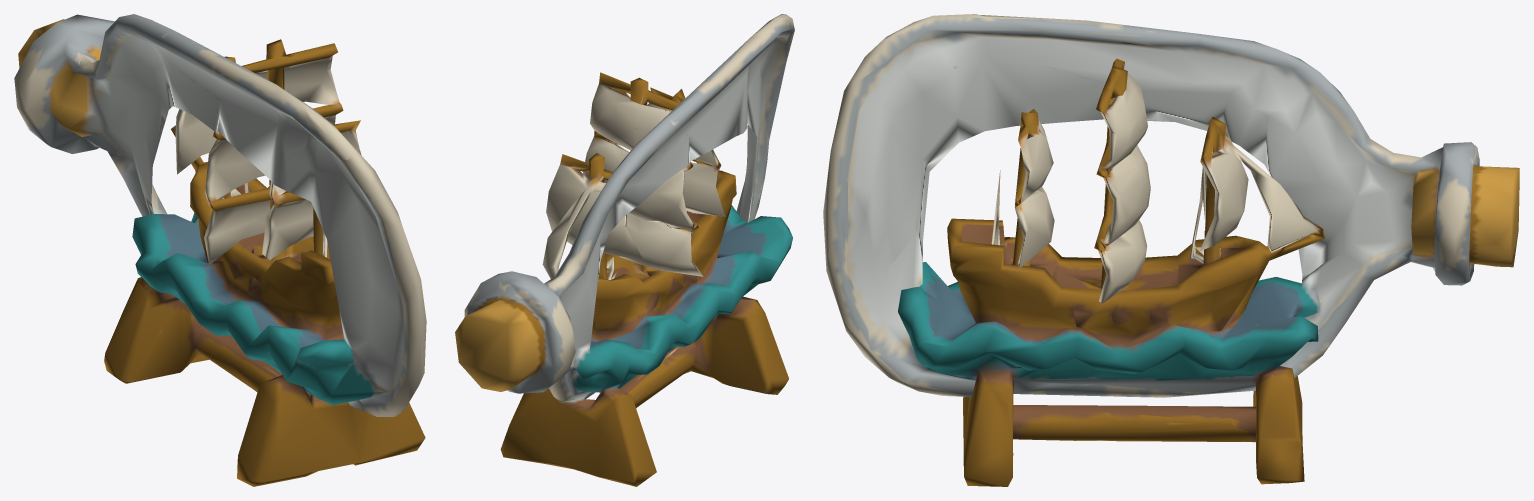
The model's file is f-shipbottle.glb.
3 views of the same model, side by side, from view 1: azimuth 30°, elevation 25°; view 2: azimuth 150°, elevation 25°; view 3: azimuth 270°, elevation 25° (orthographic). The views are drawn at different scales.
Parts seen in each view (by area): view 1: tripo_node_47b04606-2dc0-46c6-8b34-425277197150; view 2: tripo_node_47b04606-2dc0-46c6-8b34-425277197150; view 3: tripo_node_47b04606-2dc0-46c6-8b34-425277197150.
Part boxes in pixels (<box>): tripo_node_47b04606-2dc0-46c6-8b34-425277197150: <box>14,14,426,486</box>; tripo_node_47b04606-2dc0-46c6-8b34-425277197150: <box>455,14,794,486</box>; tripo_node_47b04606-2dc0-46c6-8b34-425277197150: <box>823,14,1519,486</box>.
Size of the model in its own units: 0.2968 by 0.6416 by 1.
Materials: 1 (1 with a texture image).
